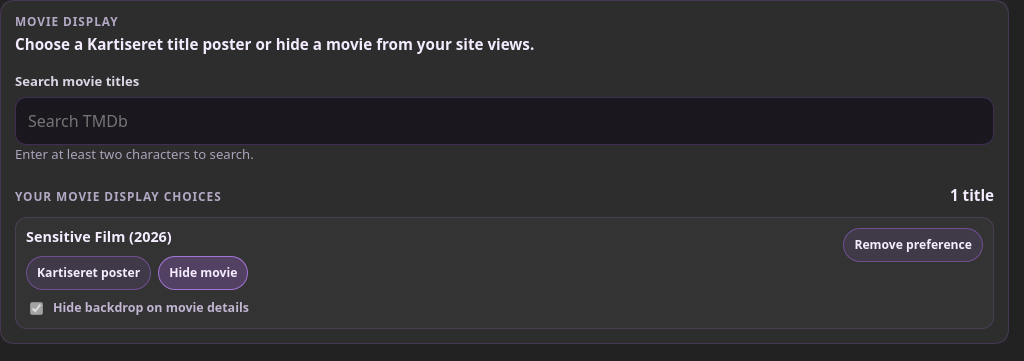
Test: UserMovieDisplayPreferences › changes treatment and removes a saved preference
The width and height of the screenshot is (1024, 361).
Click the button "Kartiseret poster" at (89, 273), box [26,256,151,290]
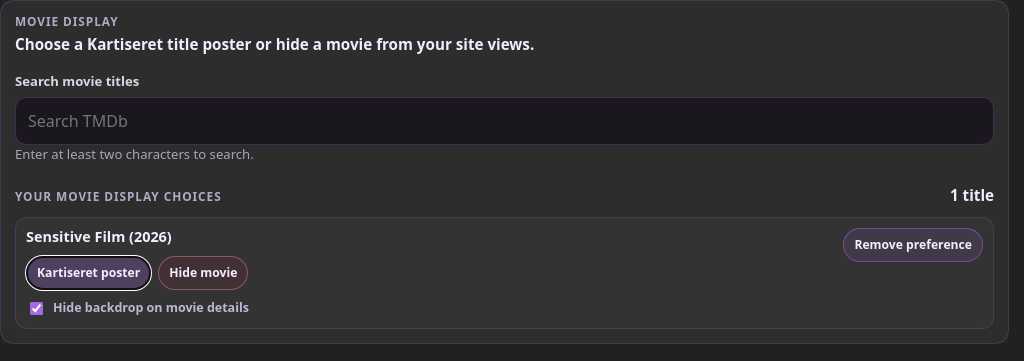
Expected: the button "Kartiseret poster" is pressed, [26,256,151,290]
Click the button with aria-label "Remove display preference for Sensitive Film" at (913, 245), box [843,228,983,262]
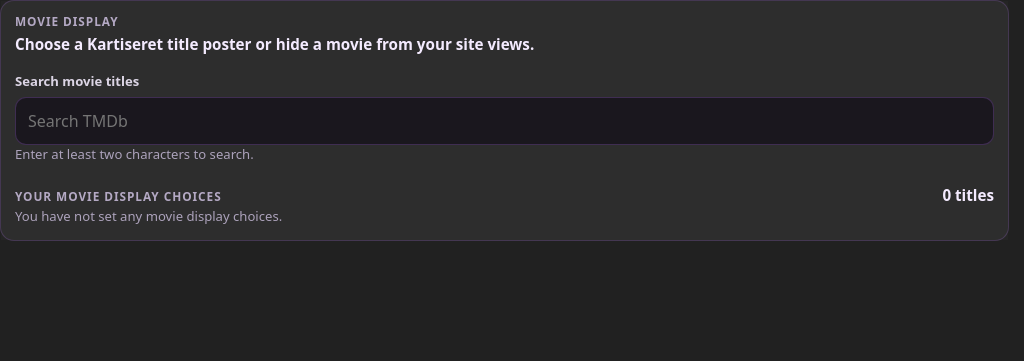
Expected: the text "You have not set any movie display choices." is shown, [15,207,282,225]
